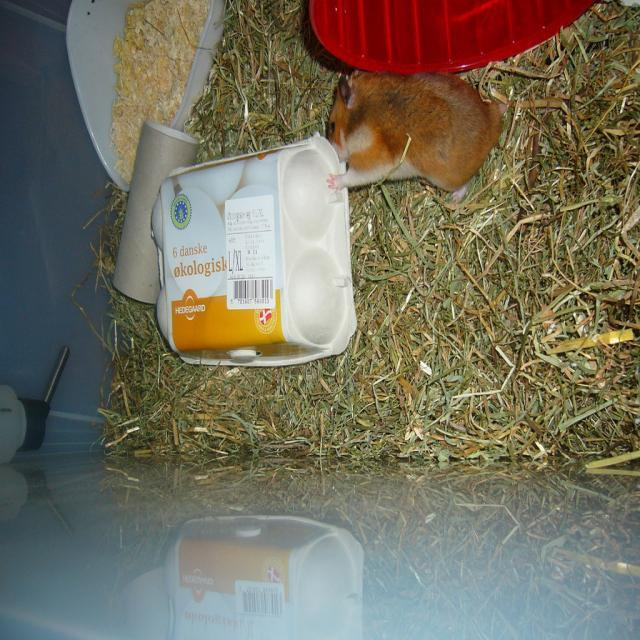rat: (308, 42, 528, 200)
